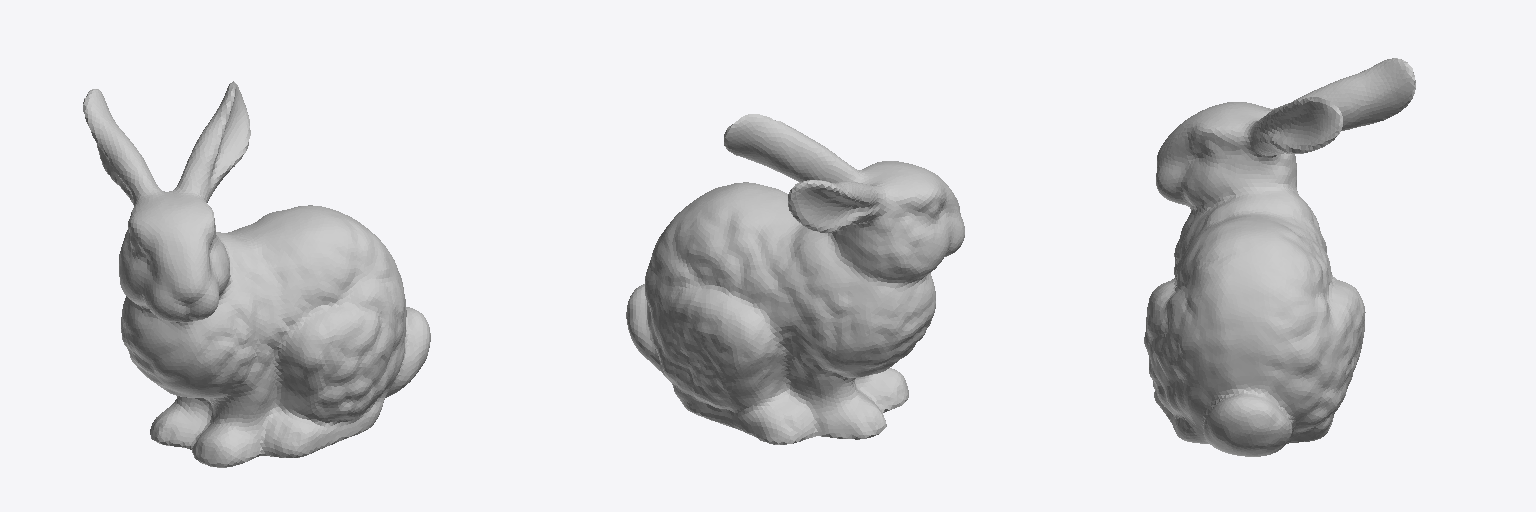
The model's file is bunny_tris.obj.
3 views of the same model, side by side, from view 1: azimuth 30°, elevation 25°; view 2: azimuth 150°, elevation 25°; view 3: azimuth 270°, elevation 25° (orthographic).
Bounding box in the file's own units: 2 × 1.97 × 1.55.